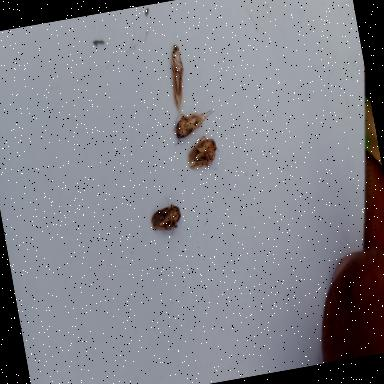pbw: (169, 103, 220, 146), (166, 43, 192, 109), (148, 195, 184, 238), (185, 133, 222, 170)
